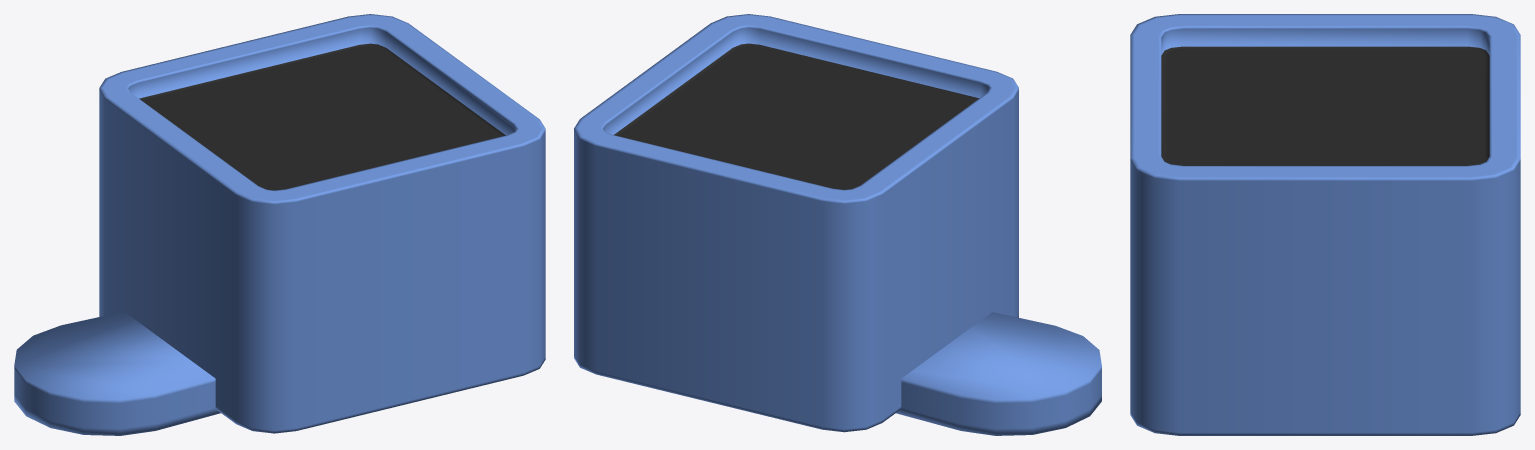
File: dispensador.fbx
3 renders of one model, left to right at view 1: azimuth 30°, elevation 25°; view 2: azimuth 150°, elevation 25°; view 3: azimuth 270°, elevation 25°, orthographic. The views are drawn at different scales.
Visible parts, largest first — view 1: Cylinder.047; view 2: Cylinder.047; view 3: Cylinder.047.
Part boxes in pixels (left/top/right/bottom): Cylinder.047: left=14, top=14, right=545, bottom=435; Cylinder.047: left=574, top=14, right=1101, bottom=435; Cylinder.047: left=1130, top=14, right=1520, bottom=435.
Size of the model in its own units: 817 by 413 by 554.
